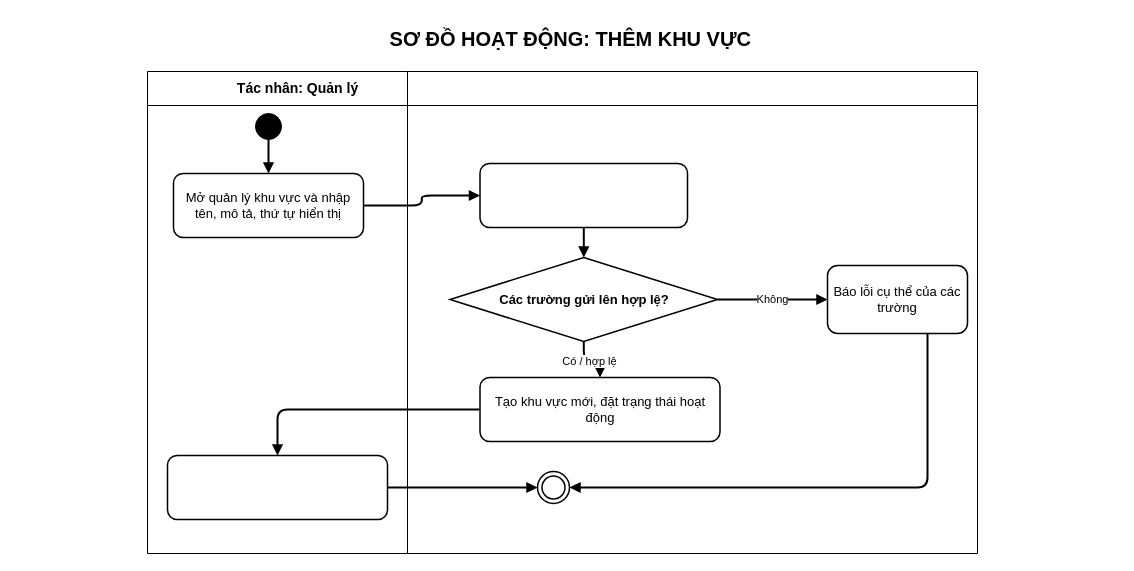
Some shapes in this 1134 by 571 pixel diagram are drawn without their labels. Here are the shapes that lost their labels. From the top down, the box of each, then its label:
(479, 162, 688, 228): Kiểm tra thông tin đầu vào
(406, 70, 978, 554): Hệ thống
(166, 454, 388, 520): Khu vực mới xuất hiện trong danh sách
